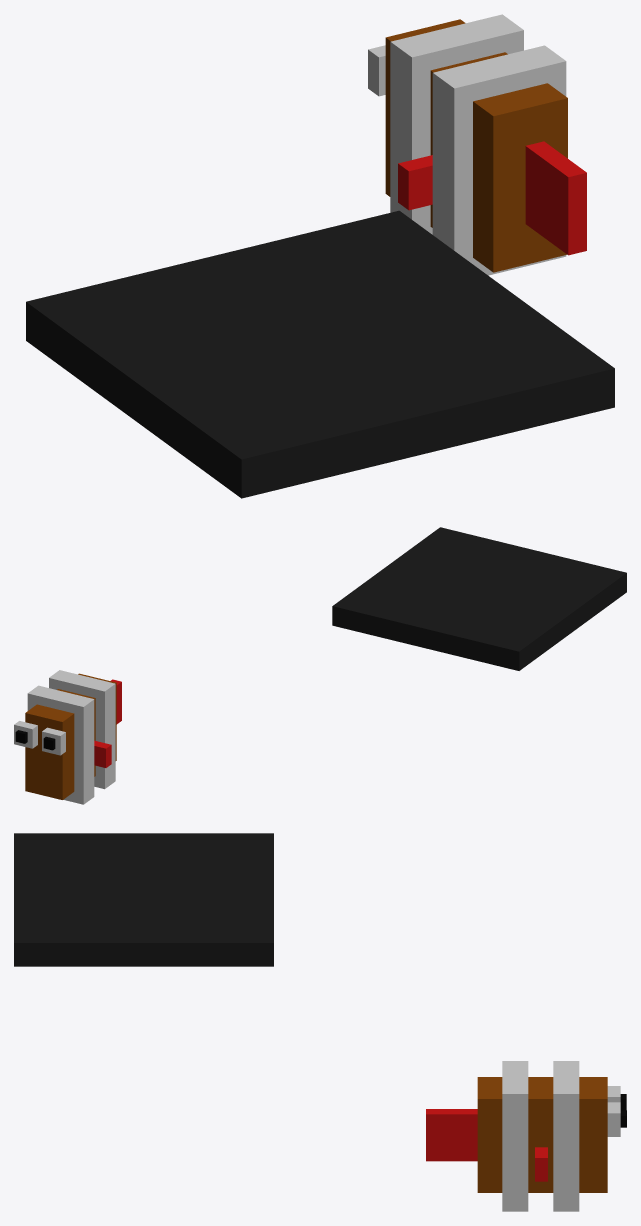
File: FISH_nocenter.fbx
The picture shows the model from 3 angles, top to bottom: view 1: azimuth 30°, elevation 25°; view 2: azimuth 150°, elevation 25°; view 3: azimuth 270°, elevation 25°; orthographic projection. The views are drawn at different scales.
Visible parts, largest first — view 1: fish1 (2), fish1 (13), fish1 (8), fish1 (6), fish1 (12), fish1 (7), fish1 (11); view 2: fish1 (2), fish1 (13), fish1 (6), fish1 (8), fish1 (11), fish1 (5), fish1 (7); view 3: fish1 (2), fish1 (13), fish1 (8), fish1 (6), fish1 (12).
Boxes of the visible parts, bbox=[...] form: fish1 (2): bbox=[26, 210, 614, 498]; fish1 (13): bbox=[385, 19, 567, 272]; fish1 (8): bbox=[432, 45, 566, 275]; fish1 (6): bbox=[390, 14, 523, 234]; fish1 (12): bbox=[525, 141, 586, 255]; fish1 (7): bbox=[398, 155, 432, 210]; fish1 (11): bbox=[368, 45, 385, 96]; fish1 (2): bbox=[332, 527, 626, 670]; fish1 (13): bbox=[25, 673, 116, 799]; fish1 (6): bbox=[27, 685, 94, 804]; fish1 (8): bbox=[49, 670, 115, 789]; fish1 (11): bbox=[42, 727, 65, 755]; fish1 (5): bbox=[14, 721, 37, 748]; fish1 (7): bbox=[94, 740, 111, 767]; fish1 (2): bbox=[14, 833, 273, 966]; fish1 (13): bbox=[477, 1077, 607, 1192]; fish1 (8): bbox=[502, 1061, 528, 1211]; fish1 (6): bbox=[553, 1061, 579, 1211]; fish1 (12): bbox=[426, 1109, 477, 1161].
Size of the model in its own units: 200 by 69.49 by 236.
